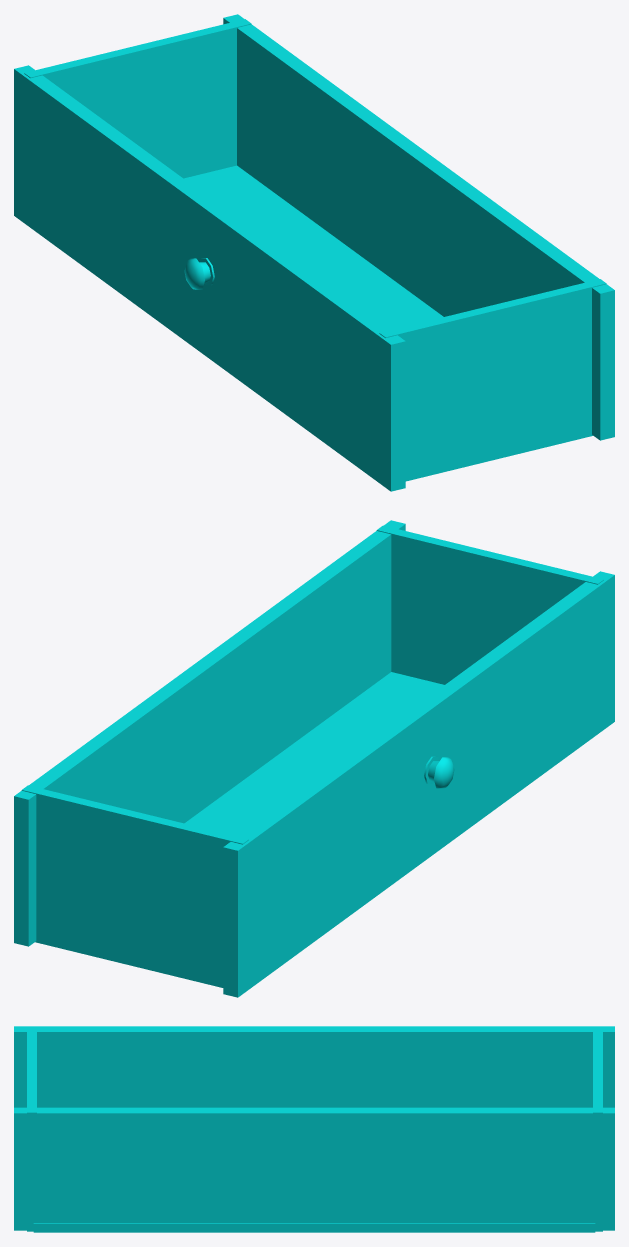
Rendered from Cupboard_01_Drawer_01.fbx.
3 views of the same model, one above another, from view 1: azimuth 30°, elevation 25°; view 2: azimuth 150°, elevation 25°; view 3: azimuth 270°, elevation 25° (orthographic). The views are drawn at different scales.
Visible parts, largest first — view 1: Cupboard_01_Drawer_01; view 2: Cupboard_01_Drawer_01; view 3: Cupboard_01_Drawer_01.
Part boxes in pixels (bbox=[...]): Cupboard_01_Drawer_01: bbox=[14, 14, 614, 491]; Cupboard_01_Drawer_01: bbox=[14, 520, 614, 997]; Cupboard_01_Drawer_01: bbox=[14, 1026, 614, 1232].
Bounding box in the file's own units: 50.61 × 29.54 × 135.
